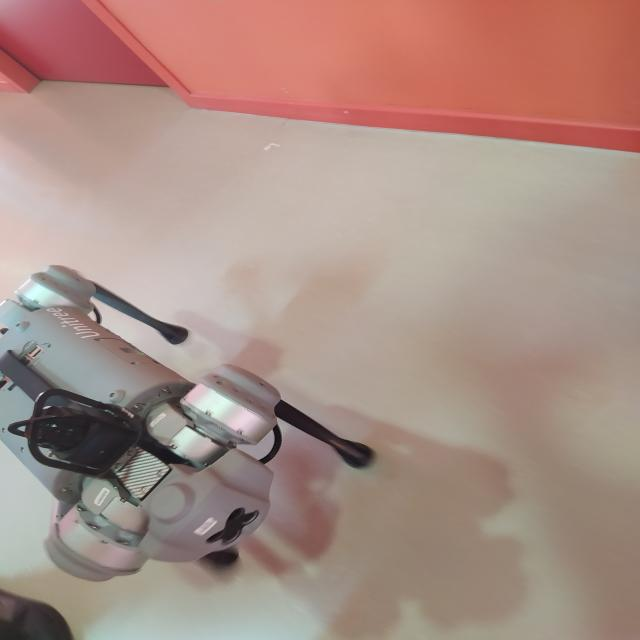unitree-go1-robot: (3, 250, 394, 596)
